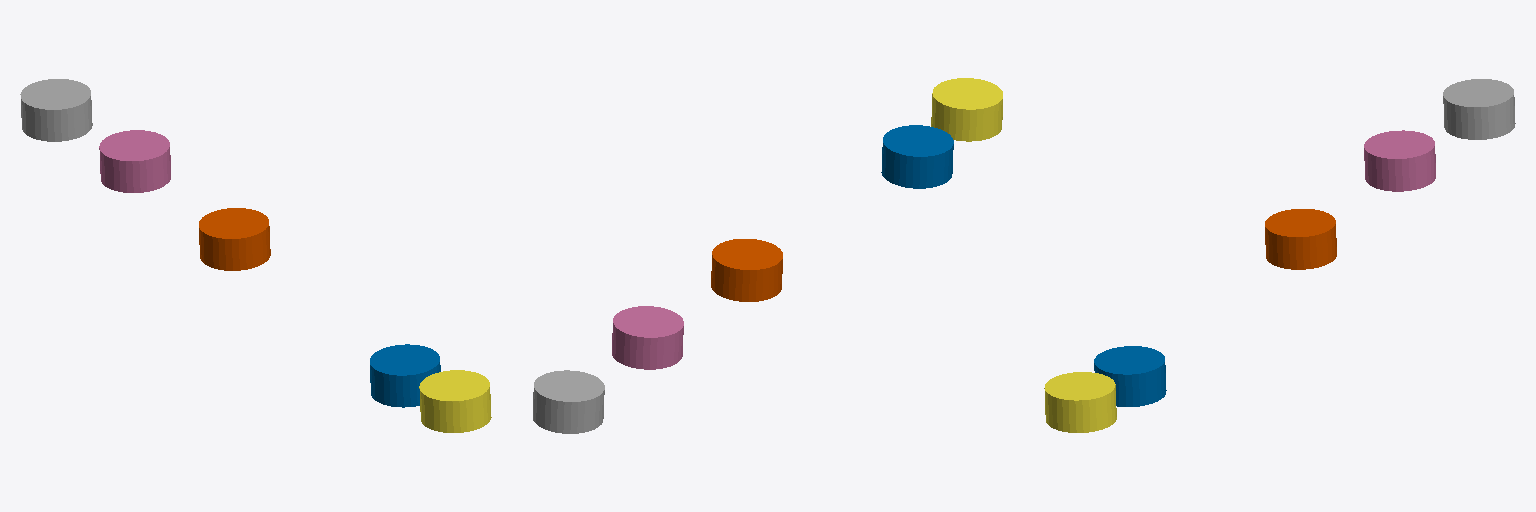
URDF robot description (hand):
<?xml version="1.0"?>
<robot name="hand">

    <!-- Base Link -->
    <link name="base_link">
        <inertial>
            <mass value="1.0" />
            <origin xyz="0 0 0" rpy="0 0 0"/>
            <inertia ixx="0.1" ixy="0" ixz="0" iyy="0.1" iyz="0" izz="0.1" />
        </inertial>
        <visual>
            <origin xyz="0.0 0.0 0.0" rpy="0.0 0.0 0.0"/>
            <geometry>
                <cylinder radius="0.0" length="0.0"/>
            </geometry>
        </visual>
    </link>

    <!-- Link 1 -->
    <link name="indexp1_c_1">
        <inertial>
            <mass value="0.5" />
            <origin xyz="0 0 0" rpy="0 0 0"/>
            <inertia ixx="0.05" ixy="0" ixz="0" iyy="0.05" iyz="0" izz="0.05" />
        </inertial>
    </link>
    <link name="indexp1_c_2">
        <inertial>
            <mass value="0.5" />
            <origin xyz="0 0 0" rpy="0 0 0"/>
            <inertia ixx="0.05" ixy="0" ixz="0" iyy="0.05" iyz="0" izz="0.05" />
        </inertial>
    </link>
    <link name="indexp1_c_3">
        <inertial>
            <mass value="0.5" />
            <origin xyz="0 0 0" rpy="0 0 0"/>
            <inertia ixx="0.05" ixy="0" ixz="0" iyy="0.05" iyz="0" izz="0.05" />
        </inertial>
        <visual>
            <origin xyz="0.0 0.0 0.0" rpy="0.0 0.0 0.0"/>
            <geometry>
                <cylinder radius="0.005" length="0.005"/>
            </geometry>
        </visual>
    </link>

    <!-- Joint 1 -->
    <joint name="joint1_1" type="fixed">
        <parent link="base_link"/>
        <child link="indexp1_c_1"/>
        <origin xyz="0 0 0" rpy="-0.0028797933 0 0"/>
        <axis xyz="0 0 0"/>
        <limit lower="-3.14" upper="3.14" effort="10" velocity="1"/>
    </joint>
    <joint name="joint1_2" type="fixed">
        <parent link="indexp1_c_1"/>
        <child link="indexp1_c_2"/>
        <origin xyz="0 0 0" rpy="0 -0.04258603 0"/>
        <axis xyz="0 0 0"/>
        <limit lower="-3.14" upper="3.14" effort="10" velocity="1"/>
    </joint>
    <joint name="joint1_3" type="revolute">
        <parent link="indexp1_c_2"/>
        <child link="indexp1_c_3"/>
        <origin xyz="0 0 0" rpy="0 0 0"/>
        <axis xyz="0 0 1"/>
        <limit lower="-0.27" upper="0.27" effort="10" velocity="1"/>
    </joint>

    <!-- Link 2 -->
    <link name="indexp2_c">
        <inertial>
            <mass value="0.5" />
            <origin xyz="0 0 0" rpy="0 0 0"/>
            <inertia ixx="0.05" ixy="0" ixz="0" iyy="0.05" iyz="0" izz="0.05" />
        </inertial>
        <visual>
            <origin xyz="0.0 0.0 0.0" rpy="0.0 0.0 0.0"/>
            <geometry>
                <cylinder radius="0.005" length="0.005"/>
            </geometry>
        </visual>
    </link>

    <!-- Joint 2 -->
    <joint name="joint2" type="revolute">
        <parent link="indexp1_c_3"/>
        <child link="indexp2_c"/>
        <origin xyz="-0.000099998 0.014 -0.0016" rpy="0 0 0"/>
        <axis xyz="1 0 0"/>
        <limit lower="-1.57" upper="0.17" effort="10" velocity="1"/>
    </joint>

    <!-- Link 3 -->
    <link name="indexp3_c">
        <inertial>
            <mass value="0.5" />
            <origin xyz="0 0 0" rpy="0 0 0"/>
            <inertia ixx="0.05" ixy="0" ixz="0" iyy="0.05" iyz="0" izz="0.05" />
        </inertial>
        <visual>
            <origin xyz="0.0 0.0 0.0" rpy="0.0 0.0 0.0"/>
            <geometry>
                <cylinder radius="0.005" length="0.005"/>
            </geometry>
        </visual>
    </link>

    <!-- Joint 3 -->
    <joint name="joint3" type="revolute">
        <parent link="indexp2_c"/>
        <child link="indexp3_c"/>
        <origin xyz="0 0.048 0.00199797" rpy="0 0 0"/>
        <!-- -1.5708 0 0-->
        <axis xyz="1 0 0"/>
        <limit lower="-2.10" upper="0" effort="10" velocity="1"/>
    </joint>

    <!-- Link 4 -->
    <link name="indexp4_c">
        <inertial>
            <mass value="0.5" />
            <origin xyz="0 0 0" rpy="0 0 0"/>
            <inertia ixx="0.05" ixy="0" ixz="0" iyy="0.05" iyz="0" izz="0.05" />
        </inertial>
        <visual>
            <origin xyz="0.0 0.0 0.0" rpy="0.0 0.0 0.0"/>
            <geometry>
                <cylinder radius="0.005" length="0.005"/>
            </geometry>
        </visual>
    </link>

    <!-- Joint 4 -->
    <joint name="joint4" type="revolute">
        <parent link="indexp3_c"/>
        <child link="indexp4_c"/>
        <origin xyz="0 0.0279039 0.000899992" rpy="0 0 0"/>
        <!-- -0.523599 0 0 -->
        <axis xyz="1 0 0"/>
        <limit lower="-0.875" upper="0" effort="10" velocity="1"/>
    </joint>

    <!-- Link 5 -->
    <link name="indexp5_c">
        <inertial>
            <mass value="0.5" />
            <origin xyz="0 0 0" rpy="0 0 0"/>
            <inertia ixx="0.05" ixy="0" ixz="0" iyy="0.05" iyz="0" izz="0.05" />
        </inertial>
        <visual>
            <origin xyz="0.0 0.0 0.0" rpy="0.0 0.0 0.0"/>
            <geometry>
                <cylinder radius="0.005" length="0.005"/>
            </geometry>
        </visual>
    </link>

    <!-- Joint 5 -->
    <joint name="joint5" type="fixed">
        <parent link="indexp4_c"/>
        <child link="indexp5_c"/>
        <origin xyz="-0.000036879 0.02221986 -0.000910405" rpy="0 0 0"/>
        <axis xyz="0 0 0"/>
        <limit lower="-3.14" upper="3.14" effort="10" velocity="1"/>
    </joint>

</robot>

--- Facts derived from the render (not from the file) ---
3 views of the same robot in one strip: view 1: azimuth 30°, elevation 25°; view 2: azimuth 150°, elevation 25°; view 3: azimuth 330°, elevation 25° (orthographic).
Robot: hand — 8 links, 7 joints (4 revolute, 3 fixed); root link base_link; default pose: every joint at zero.
Visible links, largest first — view 1: indexp1_c_3, indexp3_c, indexp4_c, indexp5_c, indexp2_c; view 2: indexp4_c, indexp2_c, indexp5_c, indexp3_c, indexp1_c_3; view 3: indexp1_c_3, indexp5_c, indexp3_c, indexp4_c, indexp2_c.
Boxes of the visible links, <box> form: indexp1_c_3: <box>419,370,491,432</box>; indexp3_c: <box>199,208,270,270</box>; indexp4_c: <box>99,130,170,192</box>; indexp5_c: <box>20,79,92,141</box>; indexp2_c: <box>370,344,440,407</box>; indexp4_c: <box>612,306,683,369</box>; indexp2_c: <box>881,125,953,188</box>; indexp5_c: <box>533,370,604,433</box>; indexp3_c: <box>711,239,782,301</box>; indexp1_c_3: <box>931,78,1002,141</box>; indexp1_c_3: <box>1044,372,1116,432</box>; indexp5_c: <box>1443,79,1515,139</box>; indexp3_c: <box>1265,209,1336,269</box>; indexp4_c: <box>1364,130,1435,191</box>; indexp2_c: <box>1094,346,1166,406</box>.
Size in the robot's own frame: 0.0104 by 0.1221 by 0.0081 metres.
Geometry: primitives only (box / cylinder / sphere), no mesh files.